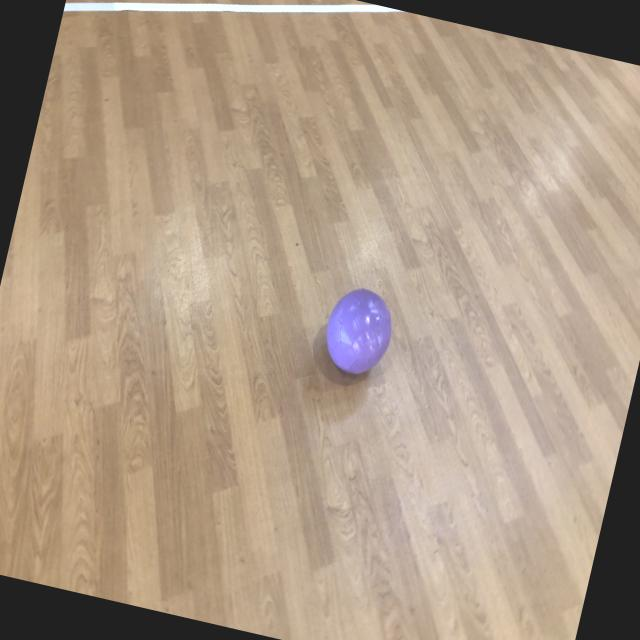purple_ball: (320, 281, 399, 377)
